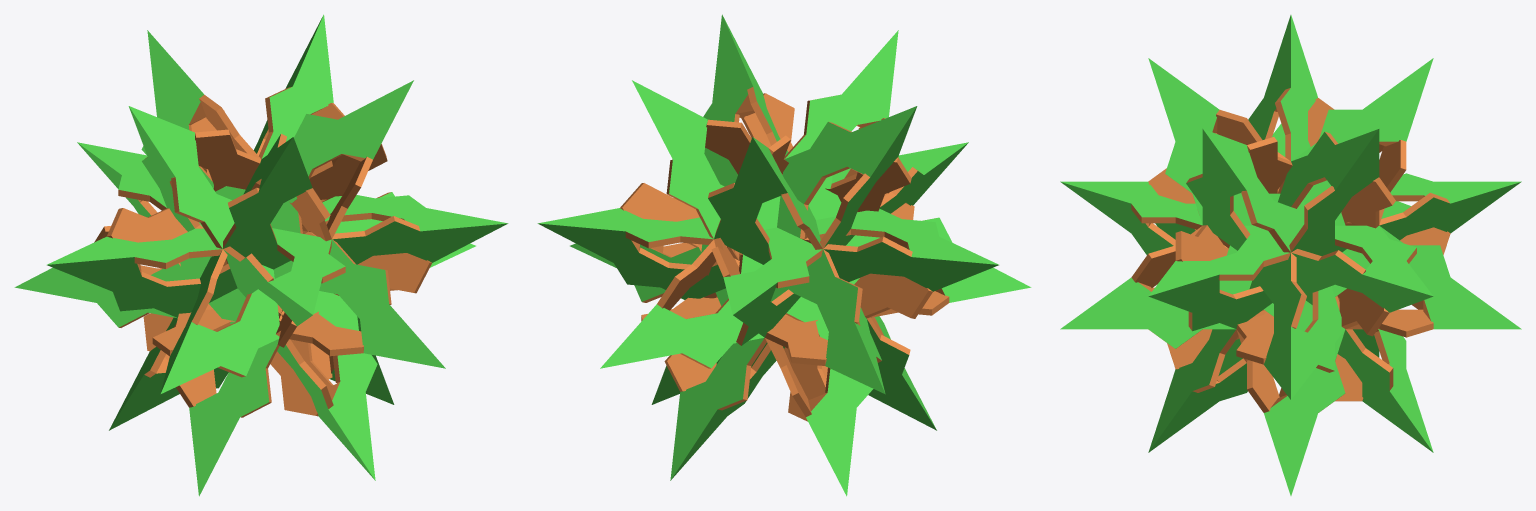
Rendered from PolyknotIcosidodecahedron.glb.
3 renders of one model, left to right at view 1: azimuth 30°, elevation 25°; view 2: azimuth 150°, elevation 25°; view 3: azimuth 270°, elevation 25°, orthographic. The views are drawn at different scales.
Visible parts, largest first — view 1: 3D_ESCHER_I_POLYKNOT_2Augmented_Icosidodeca; view 2: 3D_ESCHER_I_POLYKNOT_2Augmented_Icosidodeca; view 3: 3D_ESCHER_I_POLYKNOT_2Augmented_Icosidodeca.
Part boxes in pixels (box(x1,y1,x2,y2)): 3D_ESCHER_I_POLYKNOT_2Augmented_Icosidodeca: box(14, 14, 508, 496); 3D_ESCHER_I_POLYKNOT_2Augmented_Icosidodeca: box(537, 14, 1031, 496); 3D_ESCHER_I_POLYKNOT_2Augmented_Icosidodeca: box(1060, 15, 1521, 495).
Size of the model in its own units: 124 by 100 by 118.
